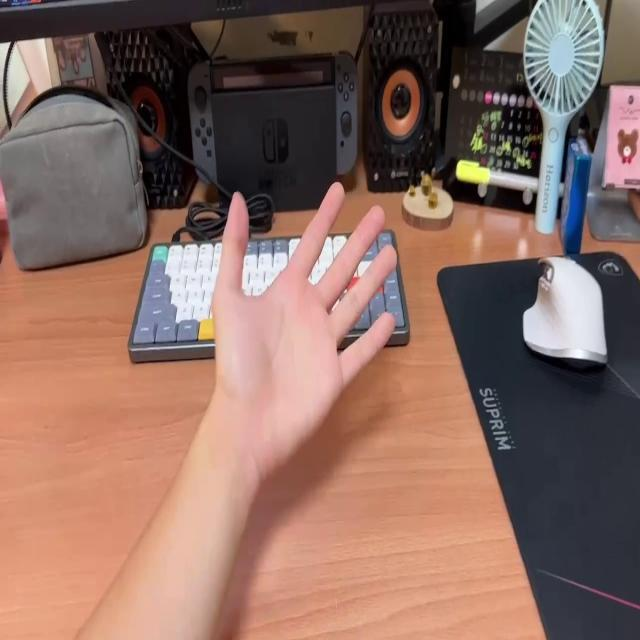keyboard-with-hands: (128, 229, 407, 348)
